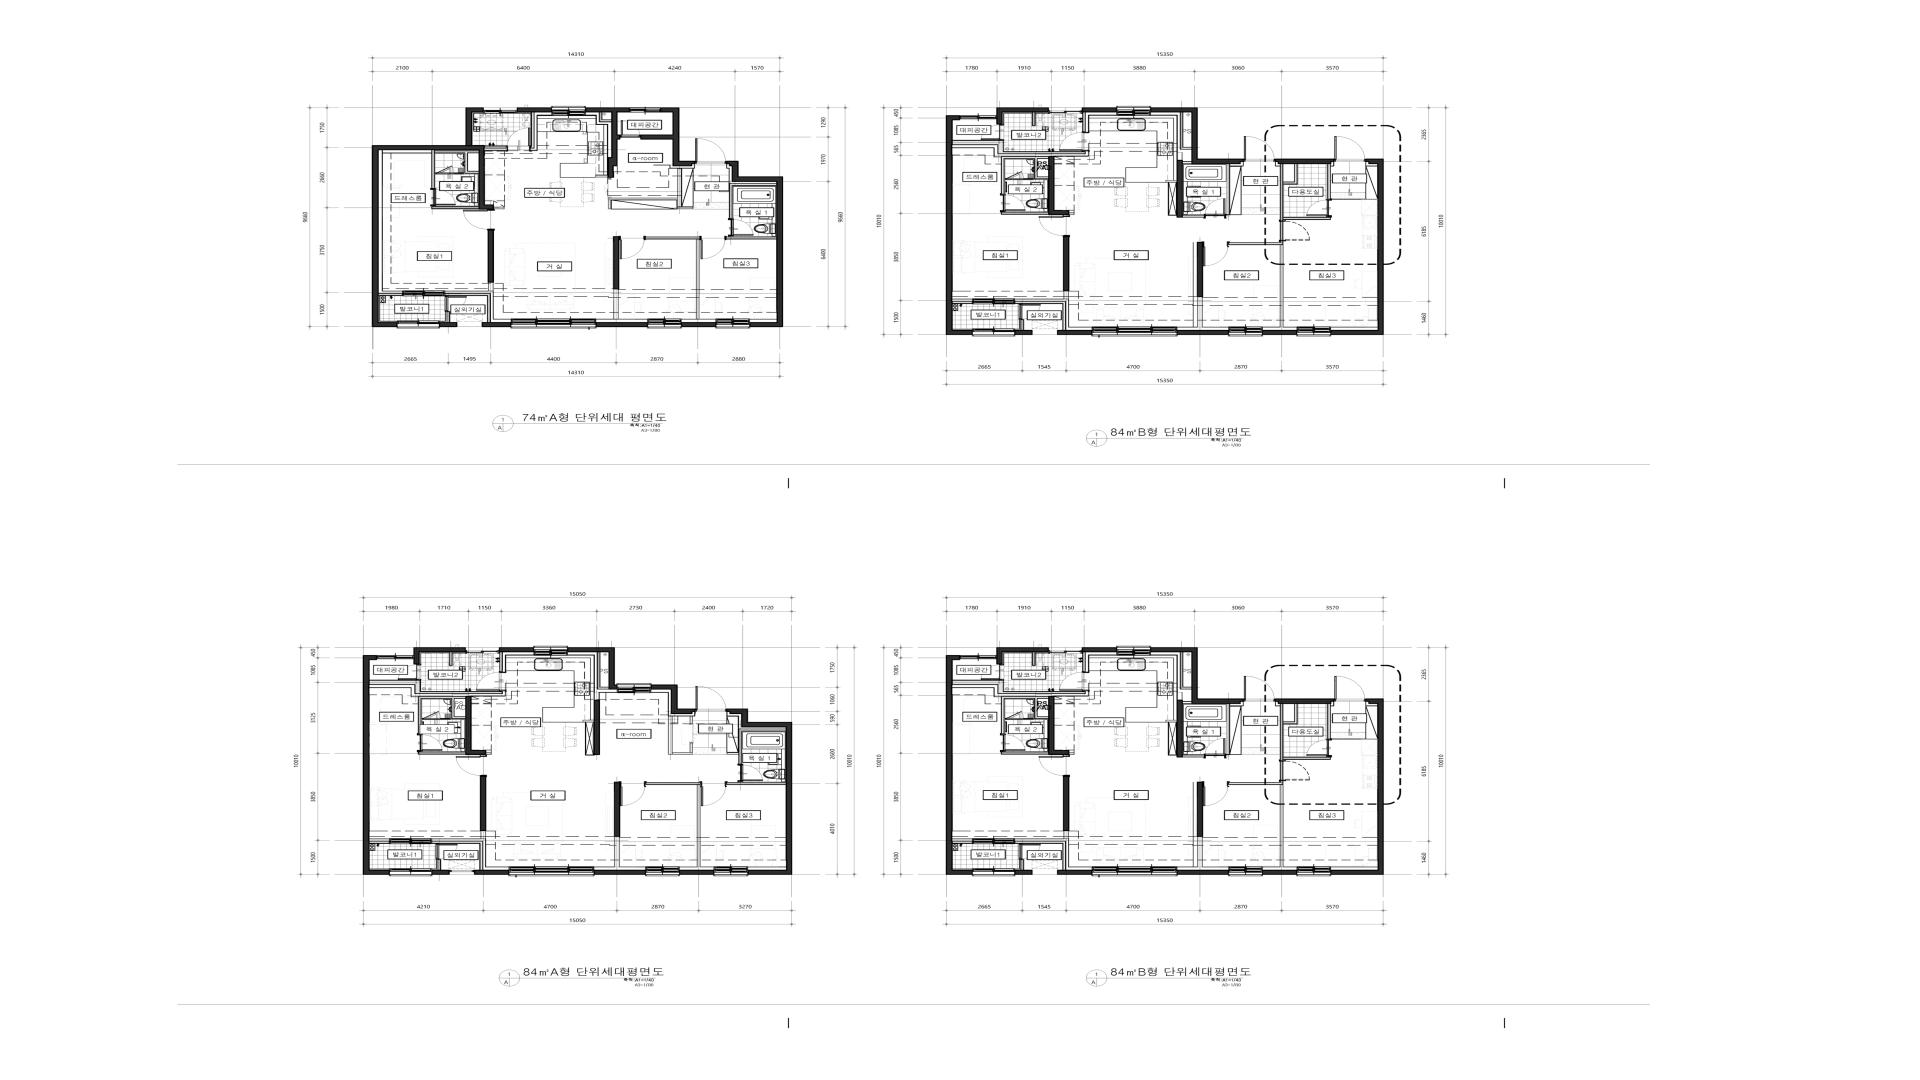door: (1373, 123, 1407, 148), (1373, 662, 1407, 687), (655, 708, 687, 735), (732, 661, 764, 687), (658, 127, 691, 152), (1312, 286, 1346, 310), (1312, 825, 1346, 849), (596, 274, 629, 298), (430, 781, 463, 804), (439, 318, 465, 342), (597, 814, 624, 837), (1250, 175, 1279, 196), (534, 135, 563, 156), (1250, 715, 1279, 736), (1379, 915, 1408, 936), (409, 696, 438, 717), (1151, 291, 1178, 314), (1151, 832, 1178, 855), (678, 814, 704, 836), (1251, 649, 1279, 670), (1379, 376, 1408, 396), (534, 199, 563, 219), (447, 269, 472, 291), (1251, 109, 1279, 129), (570, 711, 597, 729), (596, 198, 624, 215), (1342, 265, 1367, 282), (1312, 196, 1337, 214), (625, 253, 650, 270), (1342, 806, 1367, 823), (1312, 736, 1337, 753), (409, 761, 434, 778), (712, 796, 737, 814), (1154, 322, 1174, 342), (1154, 861, 1174, 881), (642, 356, 666, 372), (382, 869, 406, 885), (425, 347, 463, 355), (1385, 401, 1422, 409), (1385, 942, 1422, 948), (1344, 782, 1361, 791), (414, 737, 431, 746), (1344, 243, 1361, 251), (626, 231, 644, 239), (1276, 208, 1282, 229), (1276, 749, 1282, 769), (369, 752, 396, 756), (585, 786, 612, 790), (1381, 257, 1406, 261), (1381, 796, 1406, 800), (611, 125, 637, 128), (1328, 123, 1353, 125), (658, 245, 683, 248), (1328, 662, 1353, 665)
wall: (596, 152, 741, 388), (1369, 687, 1464, 947), (1369, 148, 1464, 406), (1153, 585, 1377, 663), (1153, 46, 1377, 123), (609, 617, 732, 738), (446, 58, 661, 127), (687, 732, 770, 909), (549, 691, 628, 787), (342, 683, 368, 901), (603, 167, 663, 253), (1176, 129, 1279, 175), (624, 815, 678, 901), (1176, 670, 1279, 715), (463, 156, 562, 199), (1313, 160, 1366, 228), (1313, 700, 1366, 767), (411, 683, 504, 721), (1116, 731, 1172, 793), (1116, 190, 1172, 252), (704, 765, 764, 818), (1319, 767, 1367, 825), (1319, 228, 1367, 286), (758, 617, 796, 687), (396, 723, 463, 761), (1176, 769, 1279, 791), (1176, 229, 1279, 252), (612, 732, 653, 787), (700, 761, 764, 796), (462, 320, 493, 388), (1425, 585, 1464, 641), (1425, 46, 1464, 100), (1171, 880, 1200, 947), (1171, 340, 1200, 406), (409, 746, 456, 781), (400, 214, 459, 240), (1176, 736, 1279, 749), (400, 302, 426, 353), (1116, 869, 1145, 915), (1116, 330, 1145, 375), (1176, 196, 1279, 208), (1122, 880, 1154, 910), (1122, 340, 1154, 369), (770, 624, 785, 687), (700, 725, 804, 732), (438, 866, 458, 895), (591, 815, 597, 901), (438, 895, 480, 909), (463, 219, 562, 224), (1407, 691, 1414, 761), (1407, 152, 1414, 220), (601, 353, 616, 382), (1312, 849, 1319, 909), (456, 804, 463, 864), (596, 215, 603, 274), (1312, 310, 1319, 369), (1312, 767, 1319, 825), (1312, 228, 1319, 286), (596, 298, 603, 349), (1178, 832, 1184, 877), (394, 683, 417, 696), (1178, 293, 1184, 336), (1319, 911, 1328, 942), (1319, 372, 1328, 402), (410, 309, 436, 319), (1313, 104, 1328, 123), (456, 742, 463, 782), (1313, 645, 1328, 662), (596, 108, 611, 125), (538, 683, 583, 688), (1166, 116, 1172, 149), (1166, 657, 1172, 690), (655, 903, 695, 909), (472, 269, 476, 319), (579, 382, 616, 388), (1116, 280, 1122, 309), (603, 270, 650, 274), (1116, 820, 1122, 848), (764, 725, 770, 753), (1295, 401, 1328, 406), (1295, 942, 1328, 947), (574, 903, 604, 909), (452, 149, 459, 173), (349, 866, 386, 870), (1377, 150, 1464, 152), (1377, 690, 1464, 691), (661, 158, 741, 160), (558, 108, 562, 135), (409, 269, 447, 272), (662, 353, 699, 356), (421, 320, 439, 326), (400, 268, 406, 281), (570, 691, 574, 711), (1125, 832, 1151, 835), (1125, 293, 1151, 295), (1379, 396, 1385, 406), (661, 372, 666, 382), (1379, 936, 1385, 947), (679, 272, 699, 274), (1402, 284, 1422, 286), (661, 382, 670, 388), (382, 885, 386, 895), (683, 244, 699, 247), (1406, 256, 1422, 258), (378, 895, 386, 901), (1353, 120, 1366, 123), (1367, 256, 1381, 258), (650, 741, 653, 753), (353, 779, 375, 781), (1402, 824, 1422, 825), (353, 752, 369, 753), (1275, 644, 1279, 649), (1406, 796, 1422, 798), (1275, 104, 1279, 109), (1353, 661, 1366, 662), (1367, 796, 1381, 798), (637, 124, 650, 125)
window: (1200, 938, 1295, 948), (1200, 397, 1295, 407), (480, 899, 574, 910), (493, 378, 579, 385), (604, 899, 655, 909), (695, 899, 746, 909), (1167, 615, 1178, 657), (1167, 690, 1178, 731), (1167, 75, 1178, 116), (1167, 149, 1178, 190), (1328, 942, 1379, 948), (1328, 907, 1379, 914), (493, 385, 579, 389), (1328, 401, 1379, 407), (386, 862, 438, 869), (386, 895, 438, 902), (456, 171, 464, 214), (1116, 793, 1127, 820), (1116, 252, 1127, 280), (456, 108, 464, 149), (504, 683, 538, 692), (1328, 368, 1379, 373), (417, 682, 455, 688), (1116, 848, 1127, 869), (1116, 309, 1127, 330), (616, 349, 662, 355), (368, 683, 394, 692), (583, 683, 609, 692), (729, 617, 758, 624), (404, 240, 410, 268), (616, 382, 661, 386), (452, 173, 456, 214), (452, 109, 456, 149), (1145, 369, 1171, 375), (404, 281, 410, 302), (352, 895, 378, 901), (670, 382, 695, 388), (616, 386, 661, 389), (400, 240, 404, 268), (1145, 910, 1171, 914), (400, 281, 404, 302)
